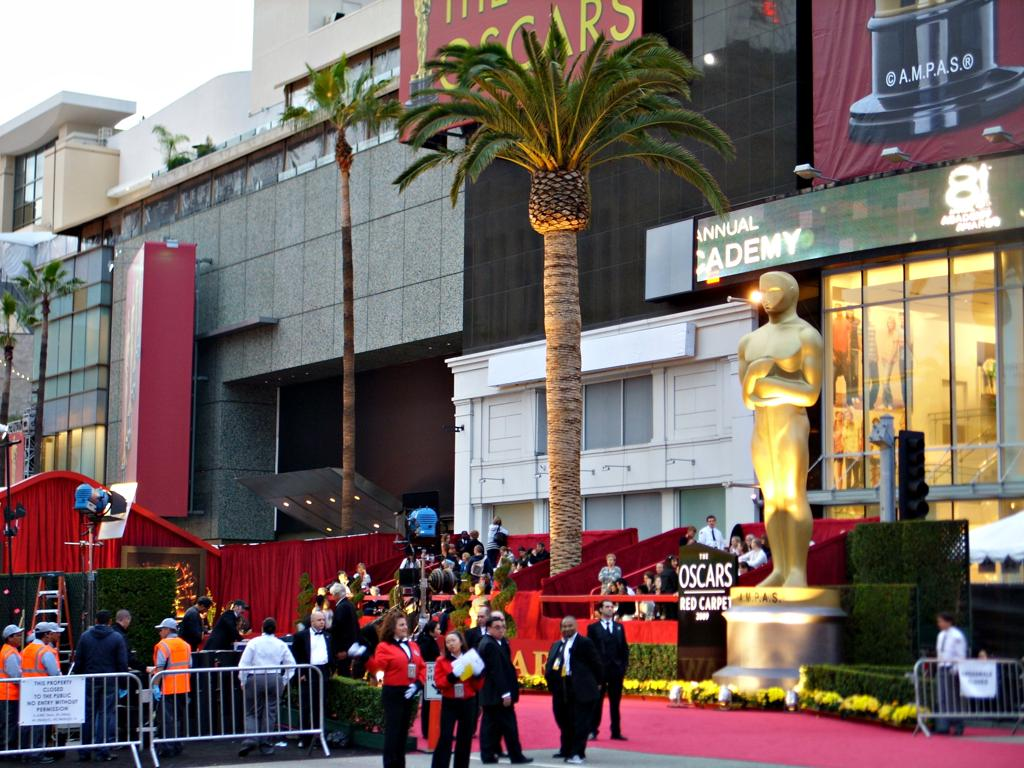face: (445, 634, 459, 651), (393, 618, 407, 635), (490, 619, 503, 637), (313, 615, 324, 629), (602, 601, 613, 615), (561, 618, 570, 634), (431, 622, 440, 637), (565, 619, 574, 634), (476, 611, 486, 624), (479, 577, 484, 584)
